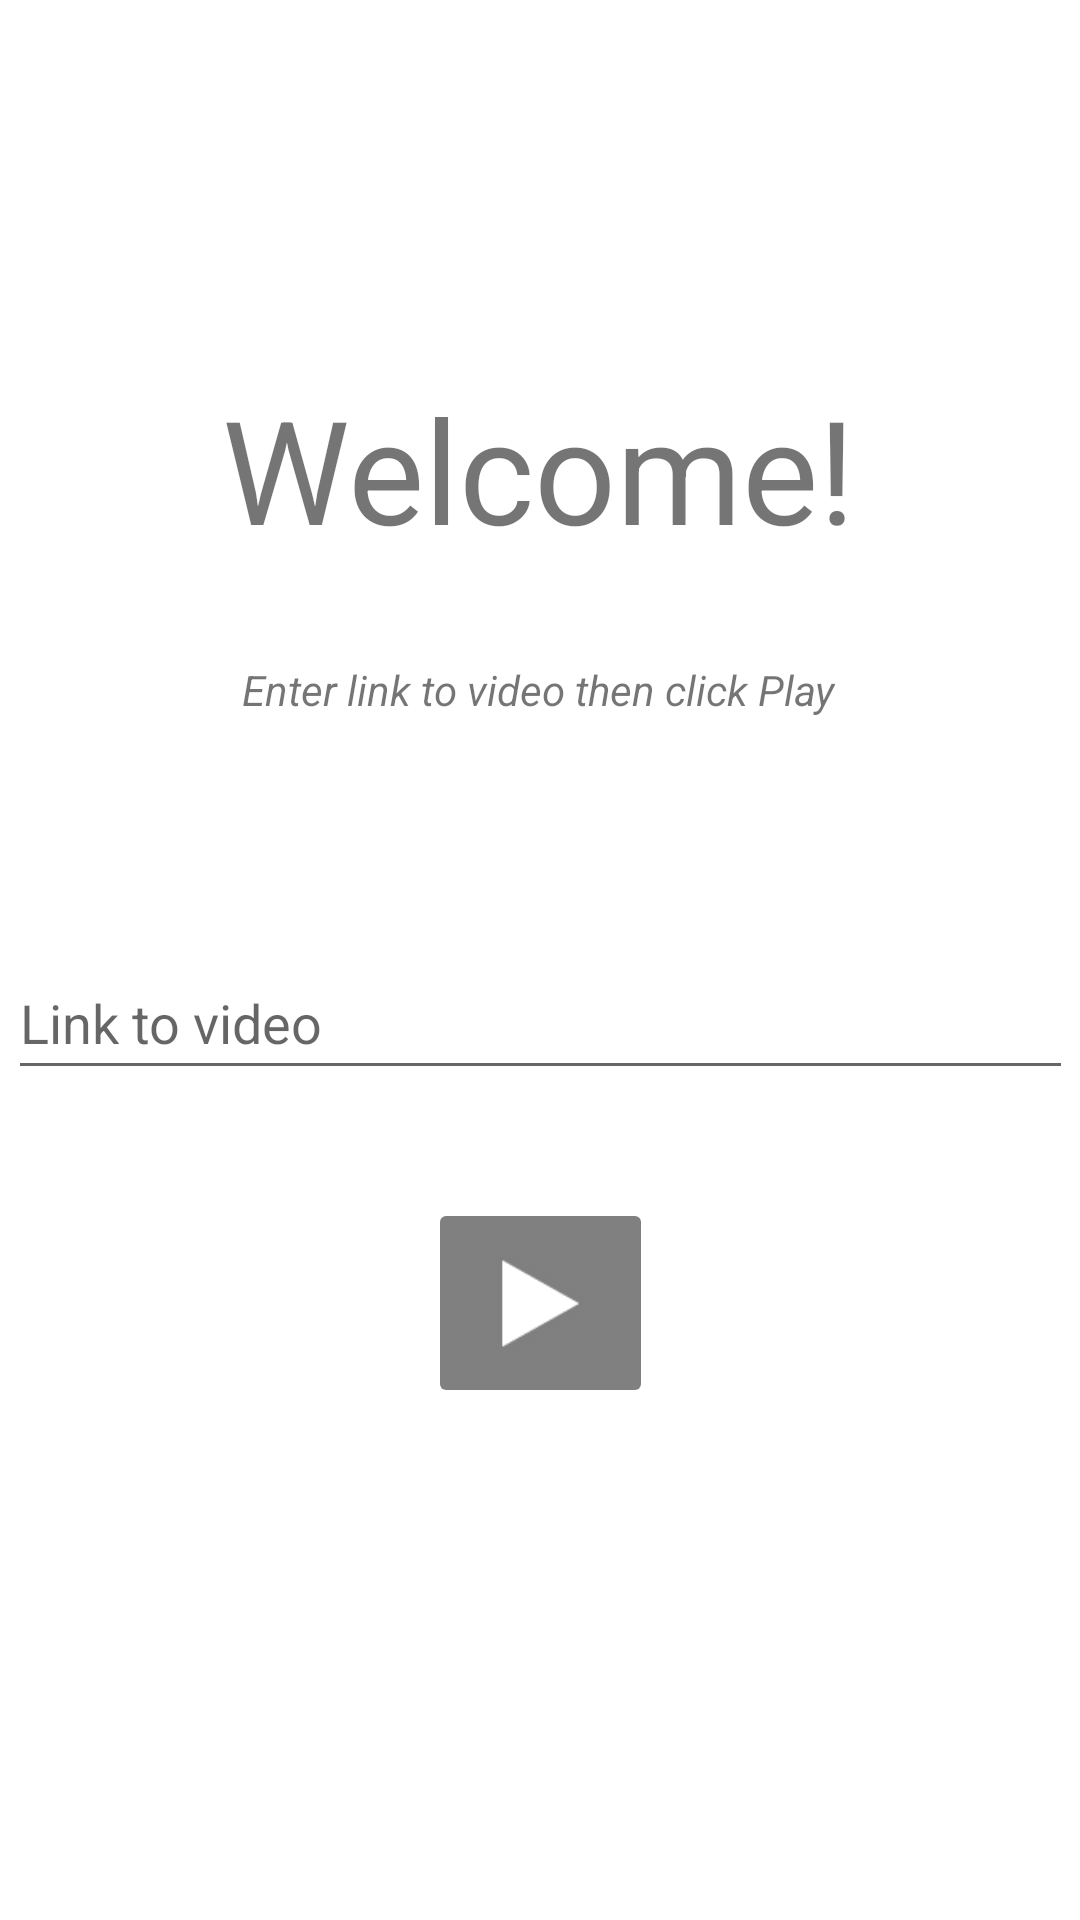

Locate icon controls on the screen. Image size 1080x1920, boxes as (x1, y1, x2, y2).
play: (440, 1216, 641, 1390)
